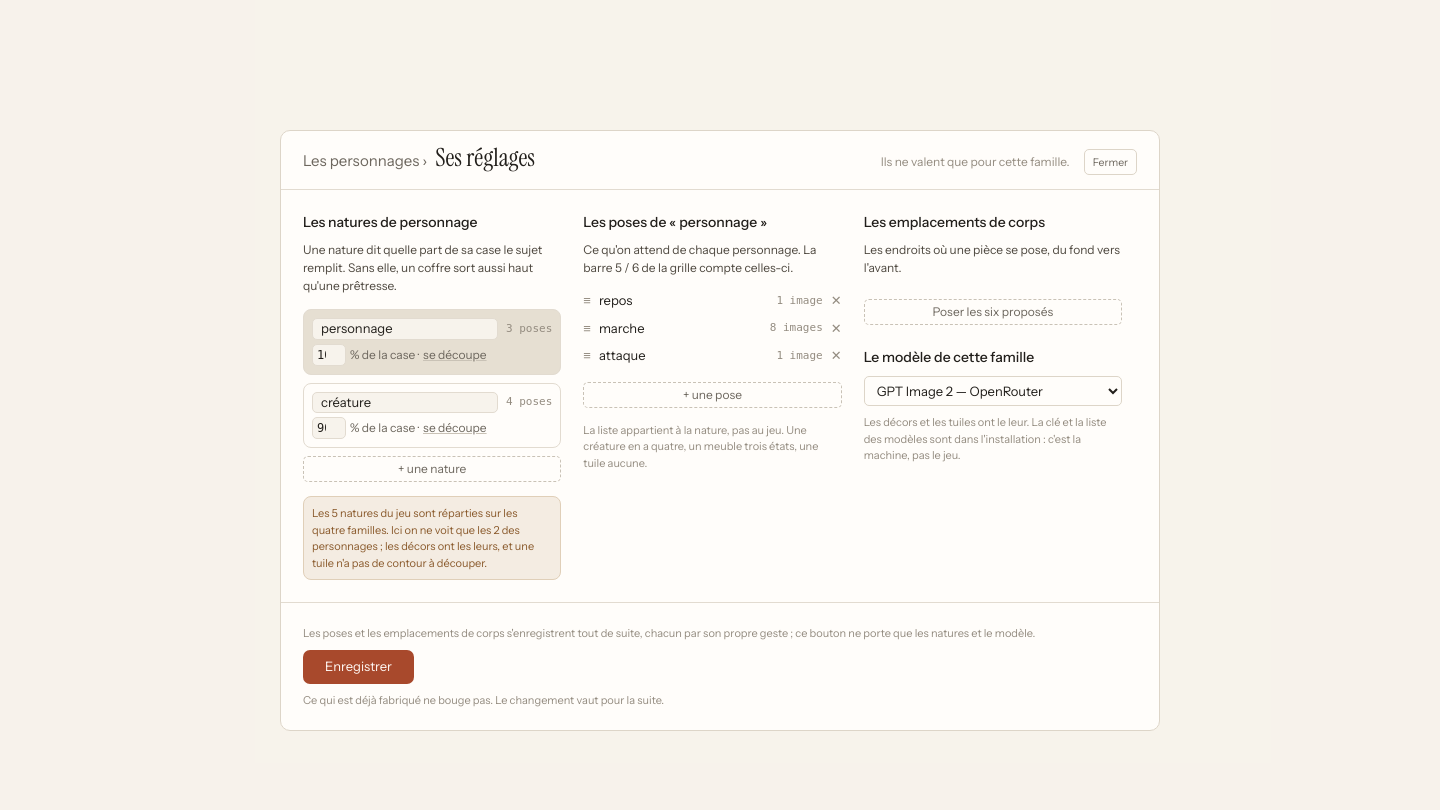
Test: la table des poses › retirer une pose l'écrit par la route de cette nature-là, et ne touche pas à l'univers
Expected: the text "marche" is shown, left=599, top=320, right=644, bottom=336
Click the button named "Retirer la pose « marche »" at (836, 329), box left=831, top=319, right=842, bottom=338
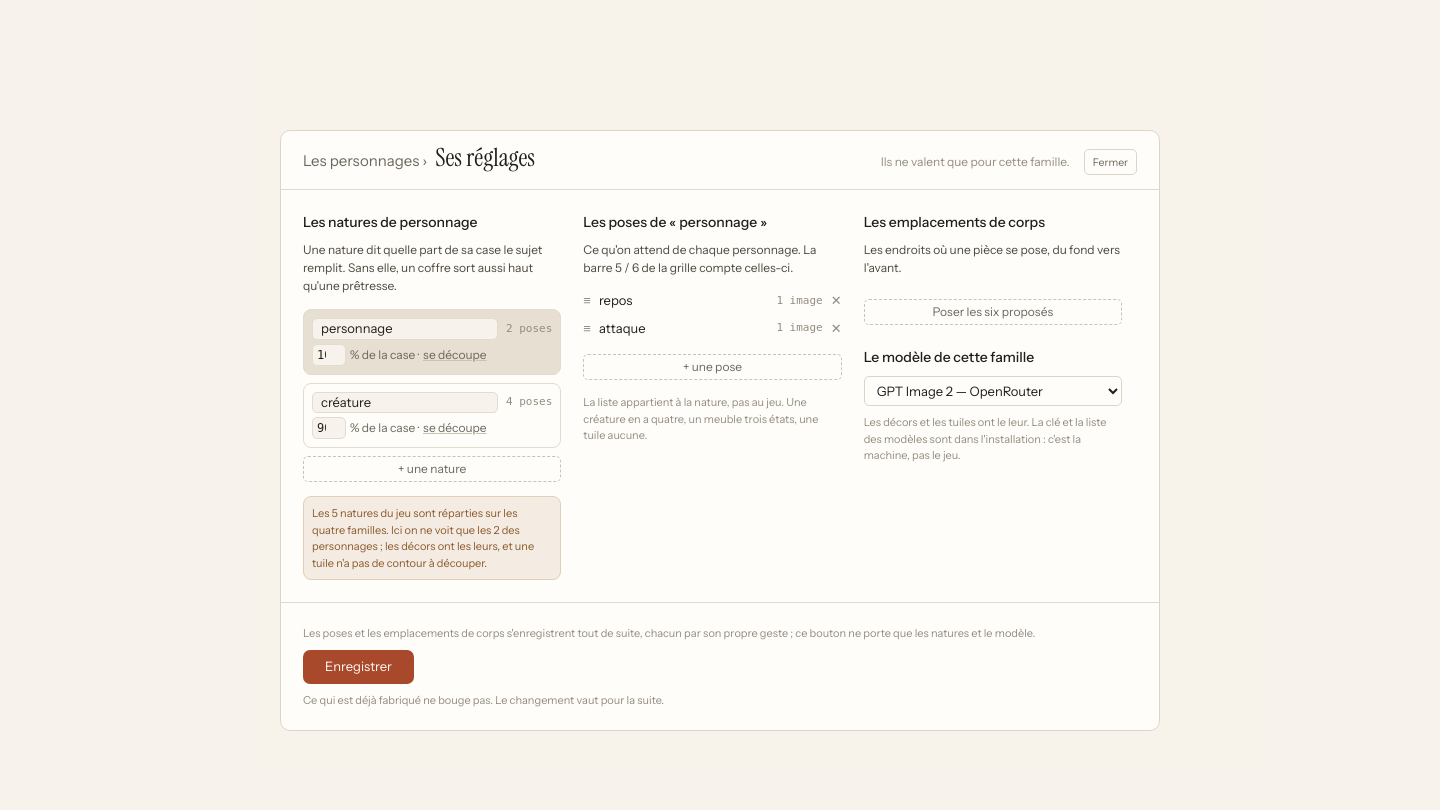
Expected: the text "marche" is gone
